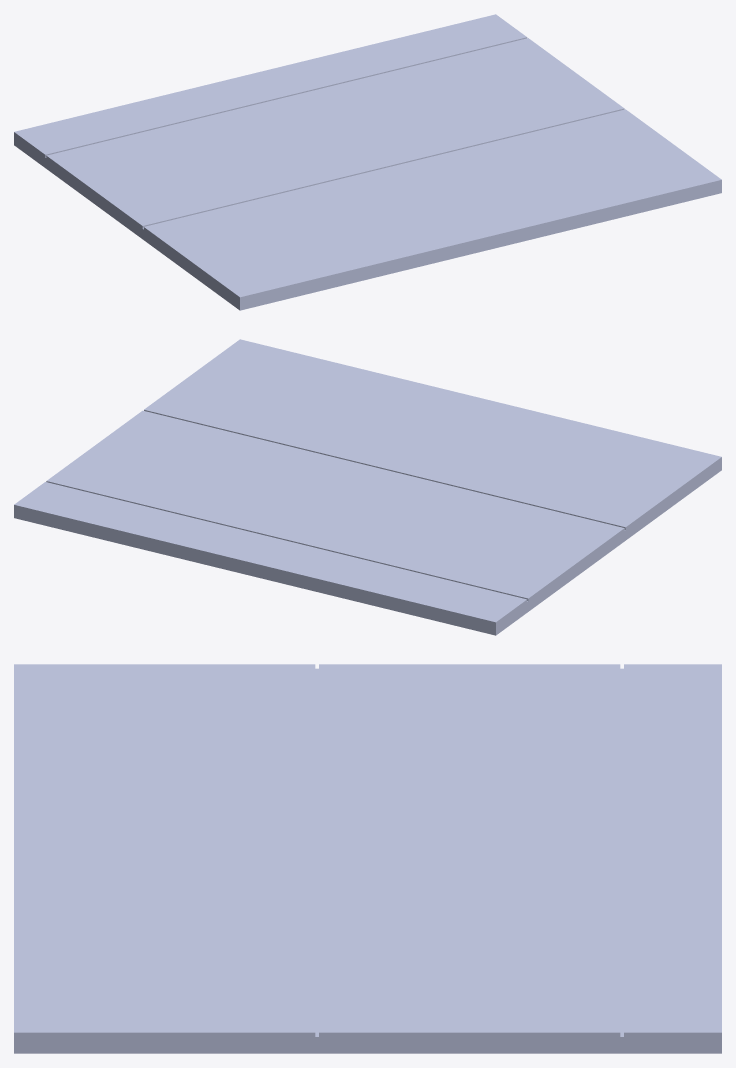
The model's file is Drawers for3 Drawer base cabinet - 40in..fbx.
The picture shows the model from 3 angles, top to bottom: view 1: azimuth 30°, elevation 25°; view 2: azimuth 150°, elevation 25°; view 3: azimuth 270°, elevation 25°; orthographic projection. The views are drawn at different scales.
Visible parts, largest first — view 1: Body_1; view 2: Body_1; view 3: Body_1.
Boxes of the visible parts, bbox=[...] form: Body_1: bbox=[14, 14, 721, 310]; Body_1: bbox=[14, 339, 721, 635]; Body_1: bbox=[14, 664, 721, 1053].
Bounding box in the file's own units: 0.9601 × 0.78 × 0.0254.
